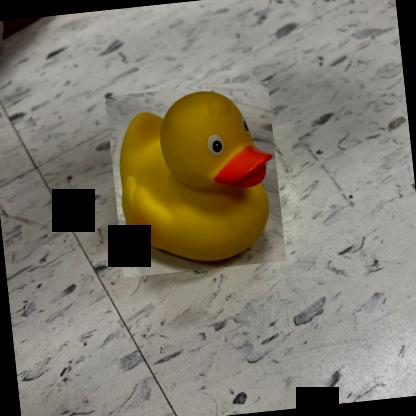duck: (105, 78, 286, 278)
